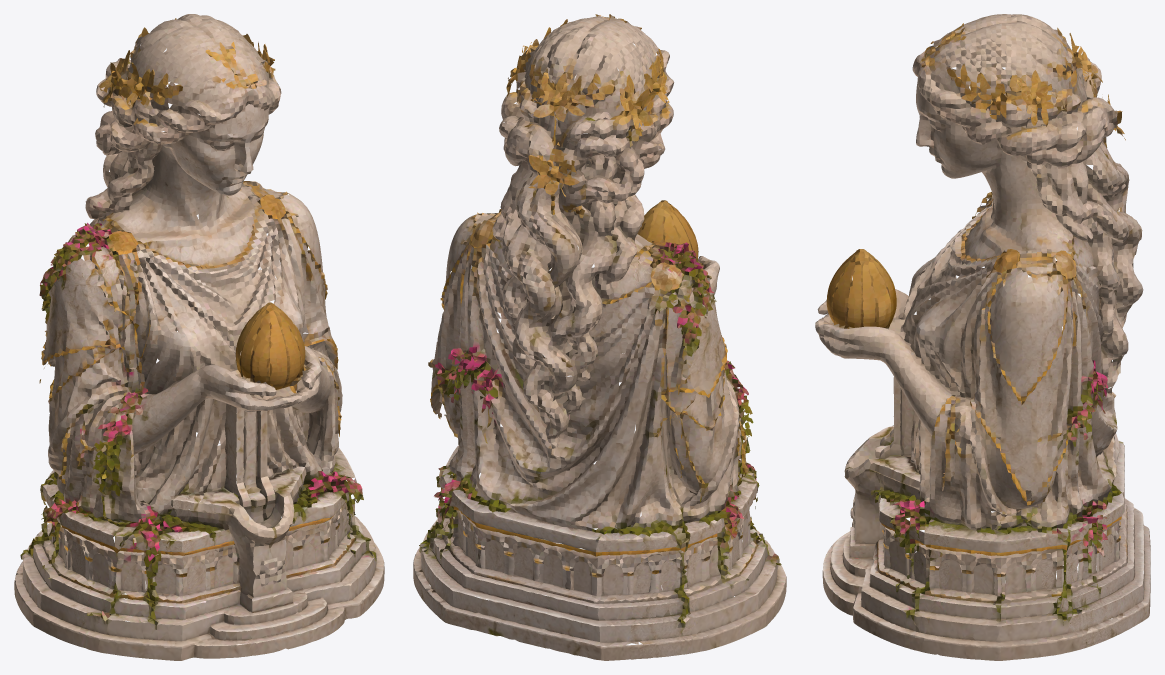
Rendered from coloso.glb.
The picture shows the model from 3 angles, left to right: view 1: azimuth 30°, elevation 25°; view 2: azimuth 150°, elevation 25°; view 3: azimuth 270°, elevation 25°; orthographic projection.
Parts seen in each view (by area): view 1: mesh_0; view 2: mesh_0; view 3: mesh_0.
Boxes of the visible parts, x1,y1,x2,y2 form: mesh_0: (14,14,384,660); mesh_0: (413,14,786,660); mesh_0: (815,14,1150,660).
Bounding box in the file's own units: 1.18 × 1.9 × 1.03.
Materials: 1 (1 with a texture image).
